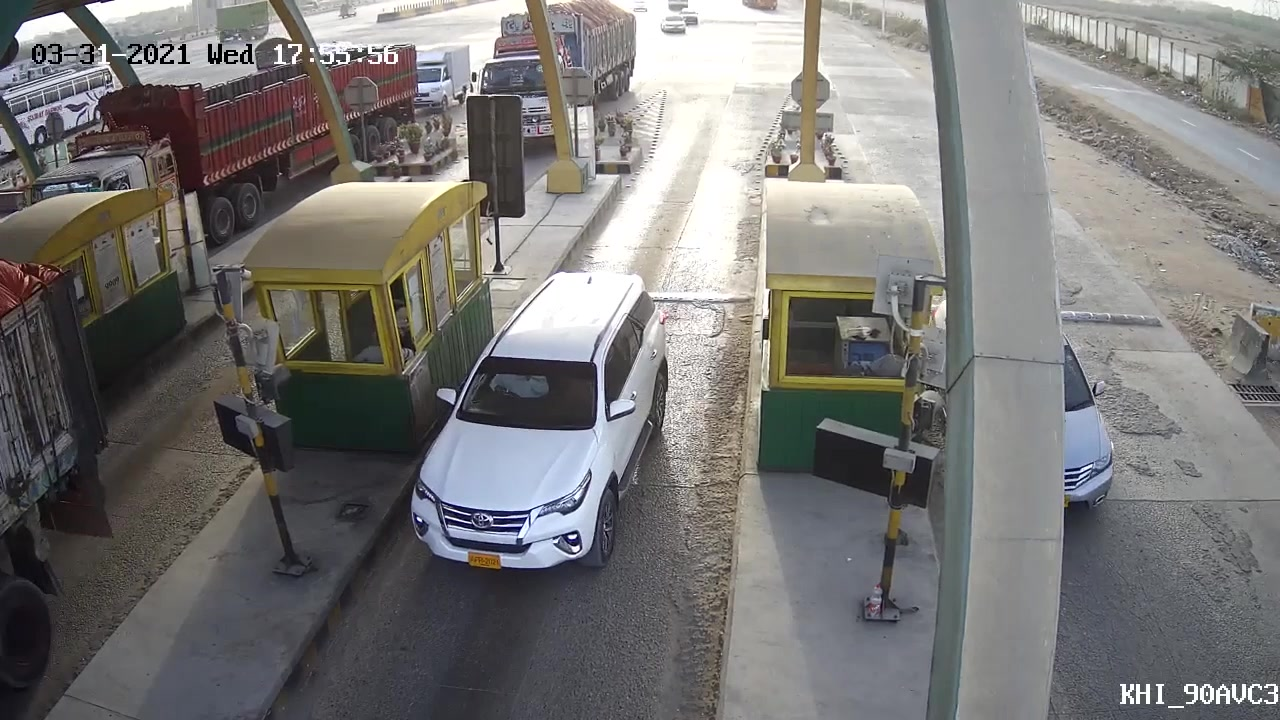F1: (398, 264, 663, 581)
